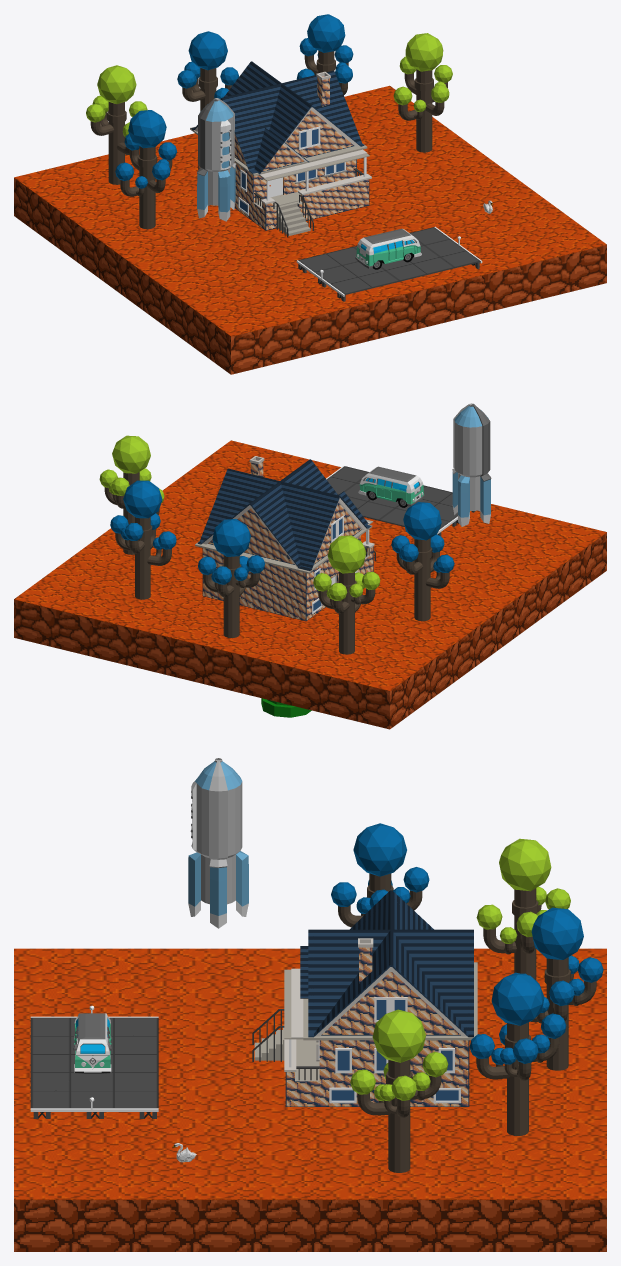
3 views of the same model, one above another, from view 1: azimuth 30°, elevation 25°; view 2: azimuth 150°, elevation 25°; view 3: azimuth 270°, elevation 25° (orthographic). The views are drawn at different scales.
Visible parts, largest first — view 1: Cube.001, Cube.430, OBJRANDOM_ROCKETSHIP, VEHICLES_VAN; view 2: Cube.001, Cube.430, OBJRANDOM_ROCKETSHIP, VEHICLES_VAN, UNDERGROUND_PIPES; view 3: Cube.001, Cube.430, OBJRANDOM_ROCKETSHIP, VEHICLES_VAN.
Part boxes in pixels (left/top/right/bottom): Cube.001: left=14, top=14, right=606, bottom=374; Cube.430: left=190, top=61, right=371, bottom=237; OBJRANDOM_ROCKETSHIP: left=197, top=98, right=235, bottom=221; VEHICLES_VAN: left=355, top=228, right=421, bottom=269; Cube.001: left=14, top=435, right=606, bottom=729; Cube.430: left=195, top=456, right=375, bottom=621; OBJRANDOM_ROCKETSHIP: left=452, top=403, right=491, bottom=526; VEHICLES_VAN: left=358, top=466, right=424, bottom=507; UNDERGROUND_PIPES: left=261, top=698, right=311, bottom=717; Cube.001: left=14, top=823, right=606, bottom=1251; Cube.430: left=252, top=890, right=477, bottom=1106; OBJRANDOM_ROCKETSHIP: left=188, top=758, right=248, bottom=928; VEHICLES_VAN: left=73, top=1013, right=111, bottom=1073.
Size of the model in its own units: 4000 by 2759 by 4000.
Materials: 37 (5 with a texture image).
